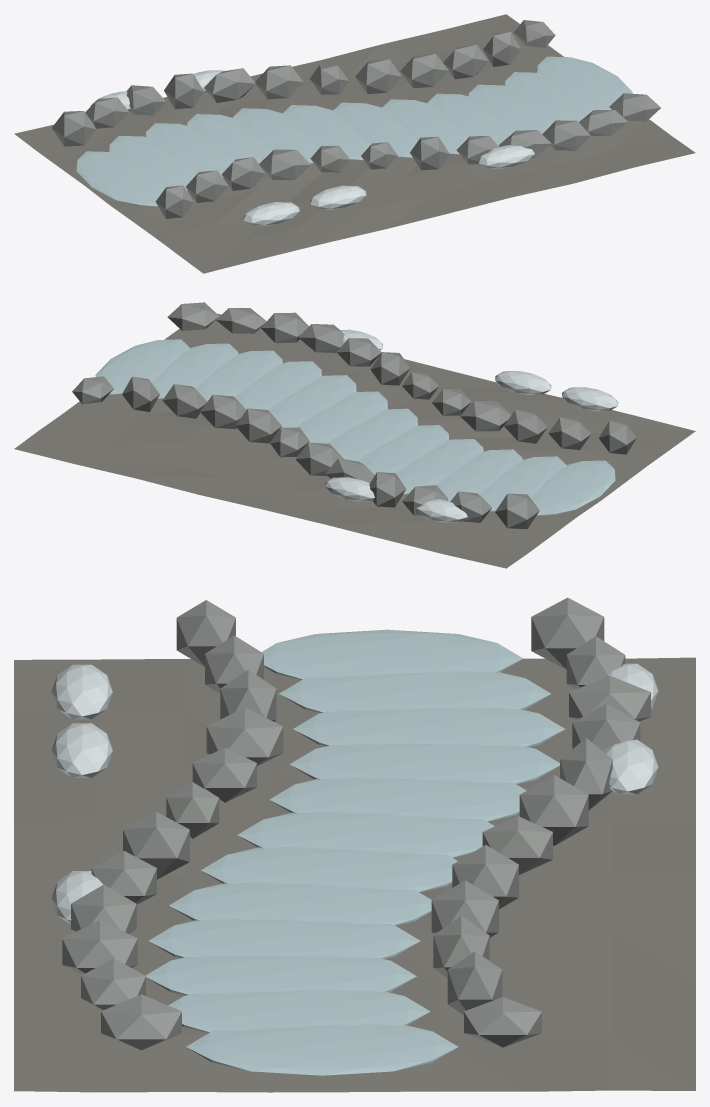
Rendered from balinok_frozen_brook.glb.
3 views of the same model, one above another, from view 1: azimuth 30°, elevation 25°; view 2: azimuth 150°, elevation 25°; view 3: azimuth 270°, elevation 25° (orthographic). The views are drawn at different scales.
Visible parts, largest first — view 1: material_00, material_01, material_02, material_03; view 2: material_00, material_01, material_02, material_03; view 3: material_00, material_01, material_02, material_03.
Boxes of the visible parts, left/top/right/bottom form: material_00: left=14, top=14, right=695, bottom=273; material_01: left=76, top=56, right=632, bottom=206; material_02: left=52, top=20, right=660, bottom=218; material_03: left=90, top=70, right=534, bottom=226; material_00: left=14, top=313, right=695, bottom=568; material_01: left=95, top=339, right=615, bottom=515; material_02: left=72, top=302, right=636, bottom=529; material_03: left=324, top=329, right=618, bottom=522; material_00: left=14, top=657, right=695, bottom=1092; material_01: left=145, top=629, right=565, bottom=1075; material_02: left=62, top=597, right=650, bottom=1050; material_03: left=51, top=663, right=658, bottom=924.
Size of the model in its own units: 3.09 by 0.251 by 2.
